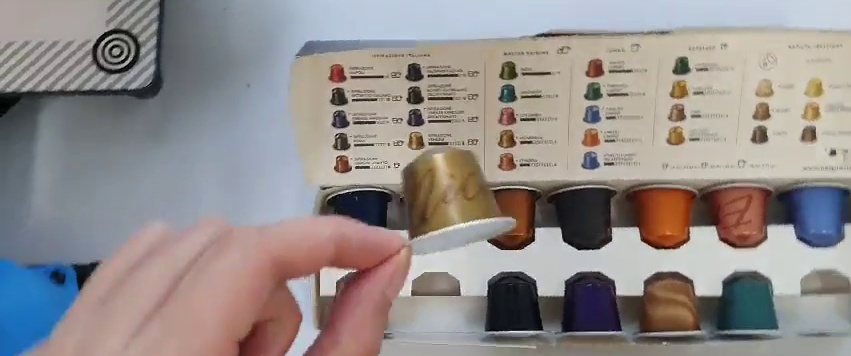capsule_9: (399, 146, 516, 257)
